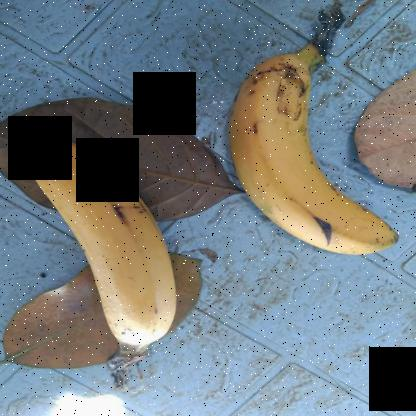freshripe: (1, 104, 194, 372)
ripe: (224, 46, 415, 264)
